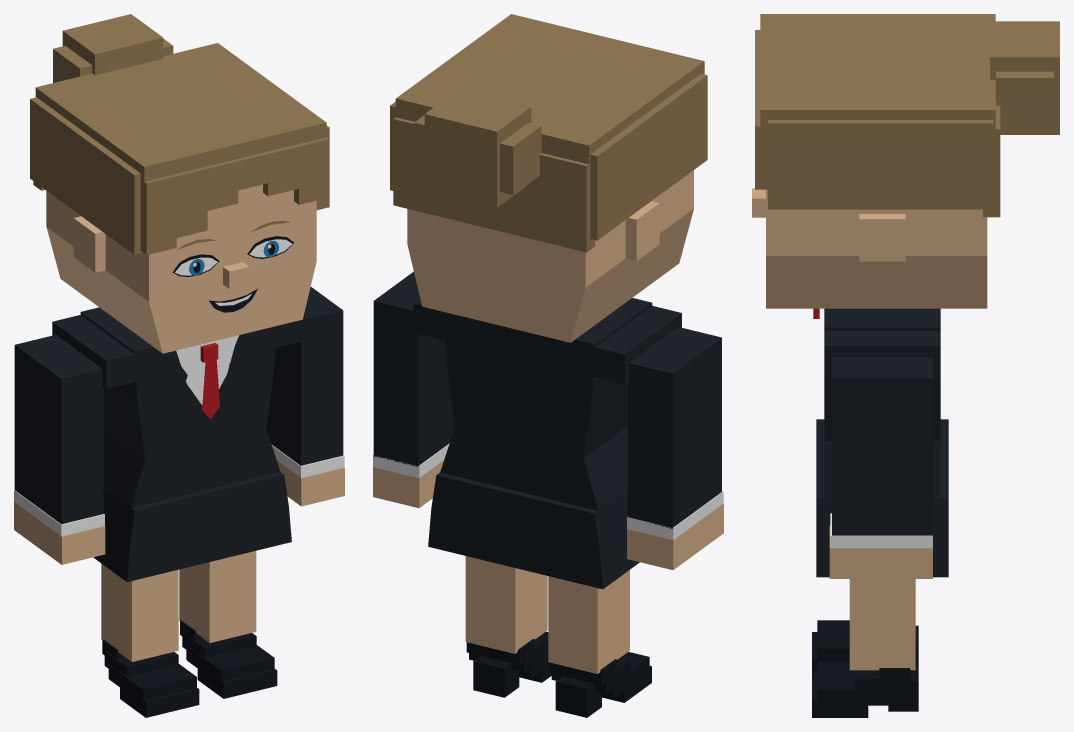
The model's file is female_bun.glb.
3 renders of one model, left to right at view 1: azimuth 30°, elevation 25°; view 2: azimuth 150°, elevation 25°; view 3: azimuth 270°, elevation 25°, orthographic. The views are drawn at different scales.
Visible parts, largest first — view 1: char_hair_visual, char_torso_visual, char_head_visual, char_arm_negx_visual, char_arm_posx_visual, char_leg_negx_visual, char_leg_posx_visual, char_hand_negx_visual, char_hand_posx_visual, char_eye_negx_visual, char_eye_posx_visual; view 2: char_hair_visual, char_torso_visual, char_head_visual, char_arm_negx_visual, char_arm_posx_visual, char_leg_negx_visual, char_leg_posx_visual, char_hand_negx_visual, char_hand_posx_visual; view 3: char_hair_visual, char_head_visual, char_arm_posx_visual, char_torso_visual, char_leg_posx_visual, char_hand_posx_visual, char_leg_negx_visual.
Boxes of the visible parts, bbox=[...] form: char_hair_visual: bbox=[30, 14, 329, 254]; char_torso_visual: bbox=[52, 307, 305, 581]; char_head_visual: bbox=[46, 184, 316, 353]; char_arm_negx_visual: bbox=[14, 335, 104, 536]; char_arm_posx_visual: bbox=[266, 287, 344, 477]; char_leg_negx_visual: bbox=[101, 563, 199, 717]; char_leg_posx_visual: bbox=[179, 551, 277, 698]; char_hand_negx_visual: bbox=[14, 502, 105, 564]; char_hand_posx_visual: bbox=[277, 460, 344, 506]; char_eye_negx_visual: bbox=[172, 254, 219, 276]; char_eye_posx_visual: bbox=[247, 236, 293, 258]; char_hair_visual: bbox=[390, 14, 707, 252]; char_torso_visual: bbox=[413, 298, 681, 589]; char_head_visual: bbox=[407, 170, 693, 342]; char_arm_negx_visual: bbox=[627, 327, 723, 539]; char_arm_posx_visual: bbox=[373, 271, 454, 477]; char_leg_negx_visual: bbox=[548, 570, 651, 717]; char_leg_posx_visual: bbox=[465, 556, 551, 697]; char_hand_negx_visual: bbox=[627, 503, 723, 569]; char_hand_posx_visual: bbox=[373, 460, 443, 507]; char_hair_visual: bbox=[755, 14, 1059, 217]; char_head_visual: bbox=[752, 188, 987, 308]; char_arm_posx_visual: bbox=[830, 357, 932, 548]; char_torso_visual: bbox=[813, 308, 948, 577]; char_leg_posx_visual: bbox=[812, 579, 918, 717]; char_hand_posx_visual: bbox=[829, 526, 932, 578]; char_leg_negx_visual: bbox=[812, 620, 918, 672].
Bounding box in the file's own units: 0.91 × 1.83 × 0.793.
